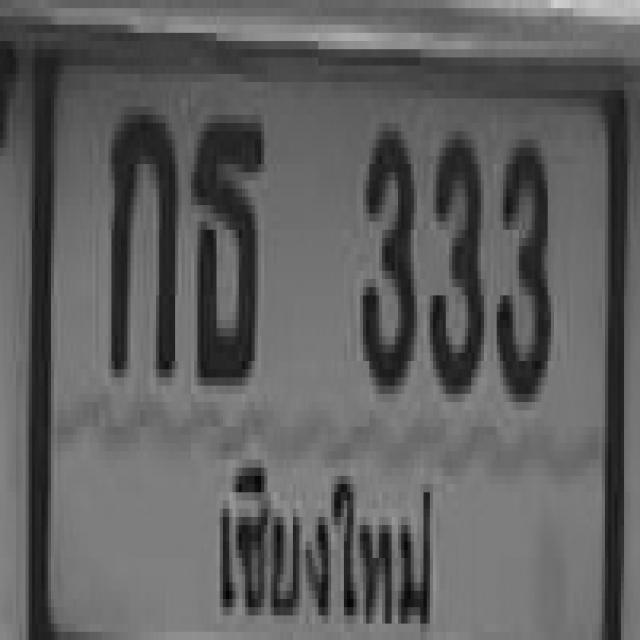10GorGai: (108, 107, 175, 369)
3: (426, 123, 481, 386), (493, 131, 548, 394), (360, 119, 414, 382)
33ThorThong: (190, 106, 262, 378)
ChiangMai: (201, 450, 444, 636)
